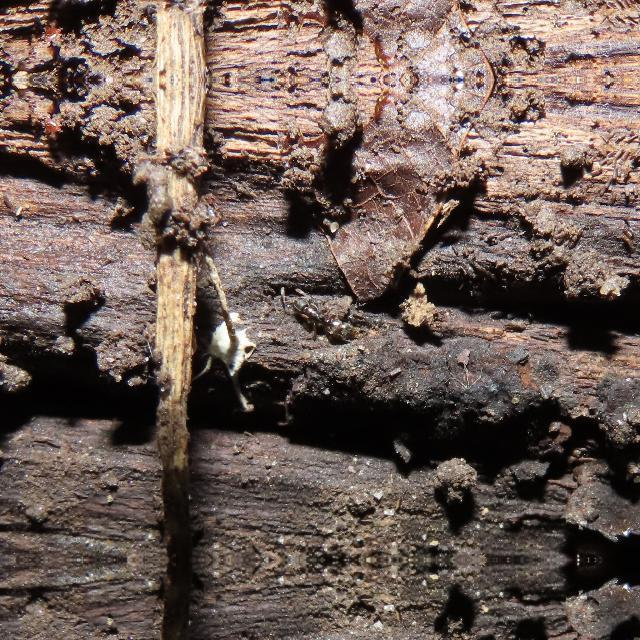Ponera: (274, 280, 366, 344)
